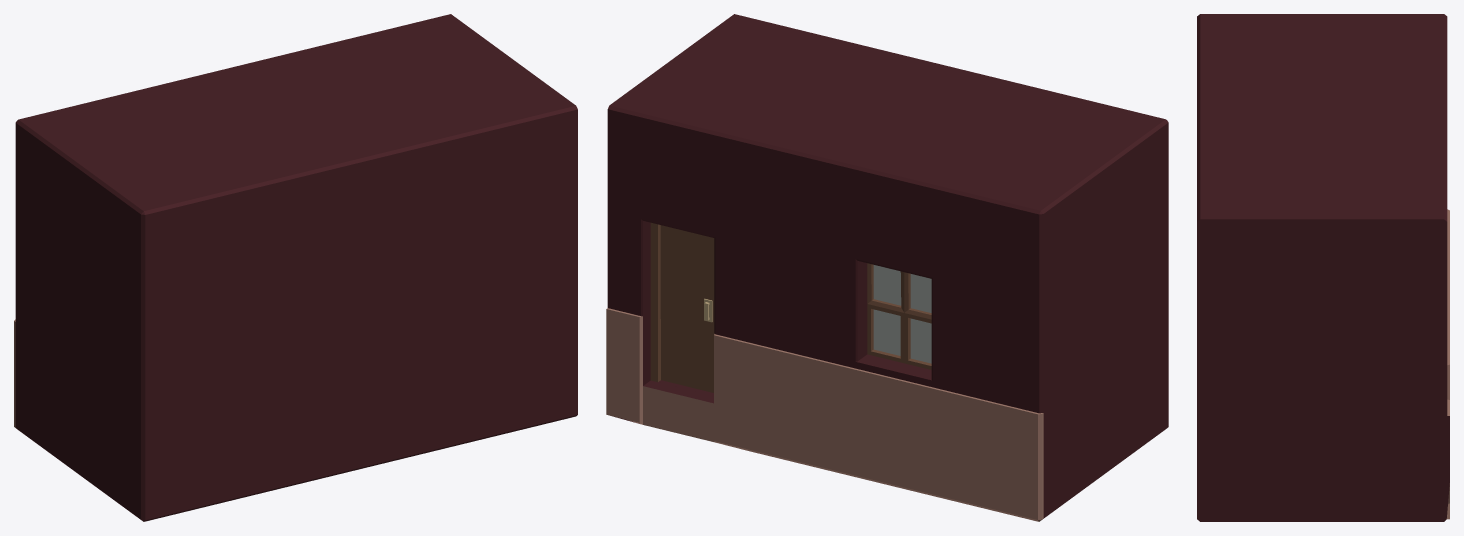
File: Edificio_Mediano03.fbx
The picture shows the model from 3 angles, left to right: view 1: azimuth 30°, elevation 25°; view 2: azimuth 150°, elevation 25°; view 3: azimuth 270°, elevation 25°; orthographic projection. The views are drawn at different scales.
Parts seen in each view (by area): view 1: WallModule.004; view 2: WallModule.004; view 3: WallModule.004.
Boxes of the visible parts, box(x1,y1,x2,y2) form: WallModule.004: box(14, 14, 577, 521); WallModule.004: box(606, 14, 1168, 521); WallModule.004: box(1197, 14, 1449, 521).
Bounding box in the file's own units: 586 × 400 × 303.
